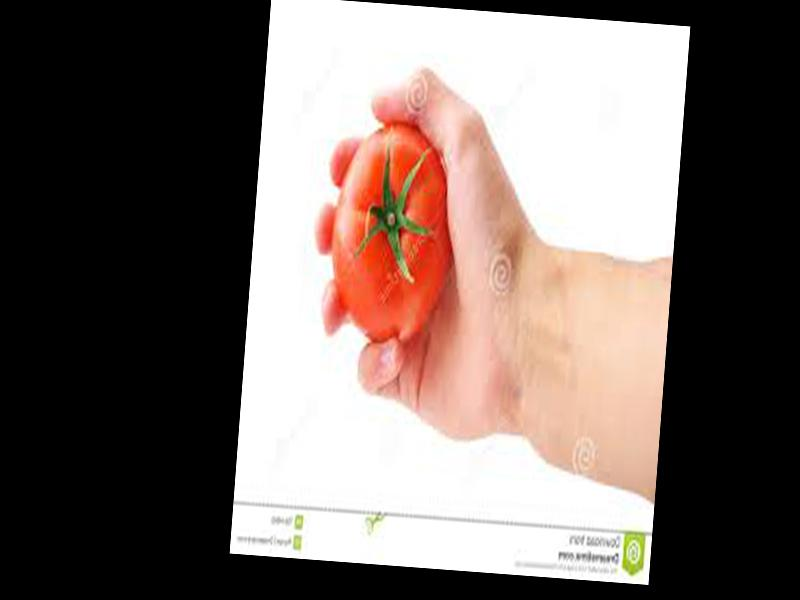Tomato: (325, 122, 456, 348)
